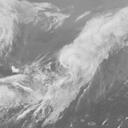cyclone: (58, 41, 96, 78)
